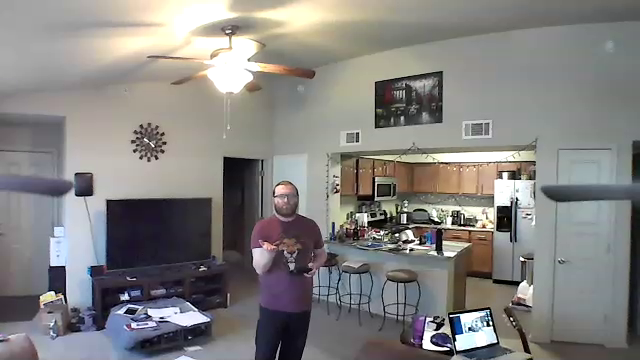land: (254, 233, 278, 255)
